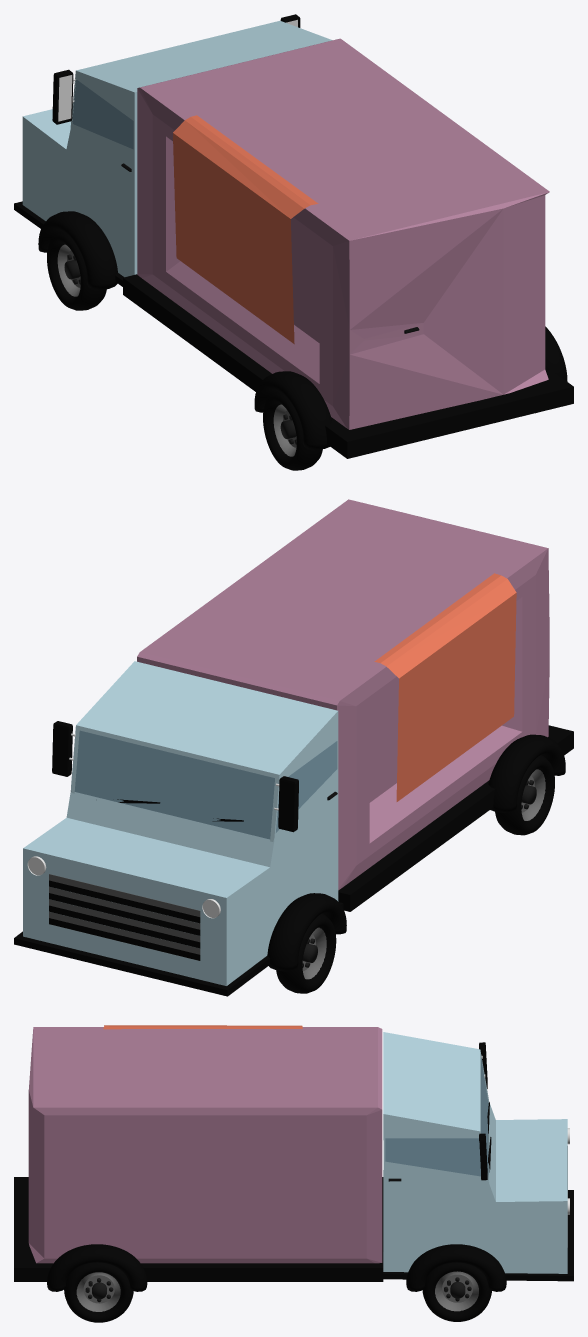
The model's file is DONDURMA.dae.
The picture shows the model from 3 angles, top to bottom: view 1: azimuth 30°, elevation 25°; view 2: azimuth 150°, elevation 25°; view 3: azimuth 270°, elevation 25°; orthographic projection. The views are drawn at different scales.
Visible parts, largest first — view 1: Kasa, Gövde, Plane.001, Cube, Çamurluk.002, Çamurluk.003, CAM, tekerlek.002, tekerlek.003, Çamurluk.004, Cube.007, Cylinder.003 (+1 smaller); view 2: Kasa, Gövde, Plane.001, CAM.001, Cube, ızgara, Izgara Boşlu, Çamurluk.002, Çamurluk.003, Cube.001, tekerlek.002, tekerlek.003 (+5 smaller); view 3: Kasa, Gövde, Cube, CAM.002, Çamurluk.005, Çamurluk.004, tekerlek.004, tekerlek, Cube.001, Cylinder.004, Cylinder, Plane.001 (+1 smaller).
Boxes of the visible parts, x1,y1,x2,y2 form: Kasa: [137, 38, 549, 429]; Gövde: [22, 20, 332, 277]; Plane.001: [173, 115, 318, 344]; Cube: [123, 274, 573, 458]; Çamurluk.002: [38, 211, 117, 289]; Çamurluk.003: [254, 371, 331, 449]; CAM: [72, 79, 133, 149]; tekerlek.002: [47, 231, 106, 310]; tekerlek.003: [263, 391, 322, 470]; Çamurluk.004: [545, 326, 567, 381]; Cube.007: [58, 75, 72, 121]; Cylinder.003: [273, 404, 296, 456]; Kasa: [137, 499, 549, 890]; Gövde: [23, 661, 338, 985]; Plane.001: [374, 573, 516, 801]; CAM.001: [74, 730, 274, 839]; Cube: [338, 725, 573, 911]; ızgara: [49, 874, 200, 959]; Izgara Boşlu: [49, 880, 200, 960]; Çamurluk.002: [267, 893, 346, 971]; Çamurluk.003: [488, 734, 565, 812]; Cube.001: [14, 902, 343, 996]; tekerlek.002: [276, 913, 336, 993]; tekerlek.003: [495, 755, 554, 835]; Kasa: [28, 1027, 382, 1263]; Gövde: [383, 1032, 567, 1273]; Cube: [14, 1177, 383, 1281]; CAM.002: [385, 1138, 480, 1176]; Çamurluk.005: [406, 1244, 506, 1291]; Çamurluk.004: [47, 1244, 147, 1291]; tekerlek.004: [64, 1262, 133, 1322]; tekerlek: [422, 1262, 491, 1321]; Cube.001: [383, 1190, 573, 1281]; Cylinder.004: [76, 1272, 120, 1311]; Cylinder: [435, 1271, 478, 1311]; Plane.001: [103, 1025, 302, 1029].
Size of what is drawn, in the model's own units: 2.56 by 5.77 by 2.38.
